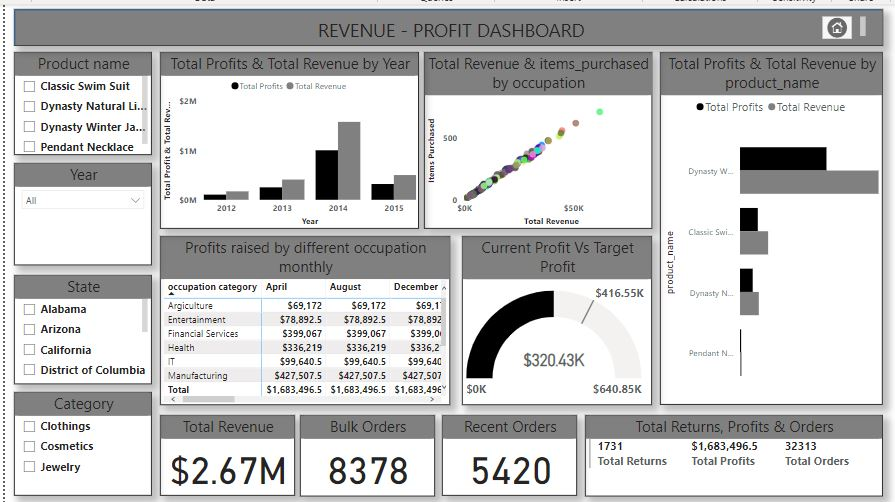

The page's visual inventory and layout, read from the dashboard file:
{"tool":"powerbi","page":{"name":"Dashboard","canvas":[1280,720],"ordinal":1},"visuals":[{"type":"card","title":"Total Revenue","fields":{"Values":["Measure.Total Revenue"]},"box":[222.8,590.7,194,116.4],"z":0},{"type":"multiRowCard","title":"Total Returns, Profits & Orders","fields":{"Values":["Measure.Total Returns","Measure.Total Profits","Measure.Total Orders"]},"box":[834.1,590.5,428,117],"z":2000},{"type":"pivotTable","title":"Profits raised by different occupation monthly","fields":{"Rows":["Customers.occupation category"],"Columns":["Calender.Month Name"],"Values":["Measure.Total Profits"]},"box":[222.8,333.4,416.8,242.9],"z":3000},{"type":"clusteredBarChart","title":"Total Profits & Total Revenue by product_name","fields":{"Category":["Products.product_name"],"Y":["Measure.Total Profits","Measure.Total Revenue"]},"box":[941.3,69,320.5,507.3],"z":4000},{"type":"gauge","title":"Current Profit Vs Target Profit","fields":{"Y":["Measure.Current Profit"],"TargetValue":["Measure.Target Profit"]},"box":[656.8,333.4,273.1,242.9],"z":5000},{"type":"scatterChart","title":"Total Revenue & items_purchased by occupation","fields":{"X":["Measure.Total Revenue"],"Y":["CountNonNull(Orders_New.items_purchased)"],"Series":["Customers.occupation"]},"box":[602.2,69,327.7,254.4],"z":6000},{"type":"clusteredColumnChart","title":"Total Profits & Total Revenue by Year","fields":{"Category":["Calendar_cc.Year"],"Y":["Measure.Total Profits","Measure.Total Revenue"]},"box":[222.8,69,372.2,254.4],"z":7000},{"type":"slicer","title":"Product name","fields":{"Values":["Products.product_name"]},"box":[12.9,69,198.3,148],"z":8000},{"type":"slicer","title":"Year","fields":{"Values":["Calendar_cc.Year"]},"box":[12.9,228.5,198.3,146.6],"z":9000},{"type":"slicer","title":"State","fields":{"Values":["Territory.state_name"]},"box":[12.9,389.5,198.3,156.6],"z":10000},{"type":"slicer","title":"Category","fields":{"Values":["Product_Category.category_name"]},"box":[12.9,557.6,198.3,149.5],"z":11000},{"type":"shape","box":[12.9,7.2,1248.9,53.2],"z":12000},{"type":"textbox","box":[48.9,12.9,1192.8,41.7],"z":13000},{"type":"card","title":"Bulk Orders","fields":{"Values":["Measure.Bulk Orders"]},"box":[423.9,590.5,194.1,117],"z":13001},{"type":"card","title":"Recent Orders","fields":{"Values":["Measure.Recent Orders"]},"box":[627.6,590.5,194.1,115.6],"z":13002},{"type":"image","box":[1169.8,12.9,51.7,41.7],"z":13003}]}

Visuals, with their boxes in screenshot pixels (x1, y1, x2, y2):
"Total Revenue" card: 165, 410, 298, 490
"Total Returns, Profits & Orders" multiRowCard: 584, 410, 878, 490
"Profits raised by different occupation monthly" pivotTable: 165, 233, 451, 400
"Total Profits & Total Revenue by product_name" clusteredBarChart: 658, 52, 878, 400
"Current Profit Vs Target Profit" gauge: 462, 233, 650, 400
"Total Revenue & items_purchased by occupation" scatterChart: 425, 52, 650, 227
"Total Profits & Total Revenue by Year" clusteredColumnChart: 165, 52, 420, 227
"Product name" slicer: 21, 52, 157, 154
"Year" slicer: 21, 161, 157, 262
"State" slicer: 21, 272, 157, 379
"Category" slicer: 21, 387, 157, 490
shape: 21, 10, 878, 46
textbox: 45, 14, 864, 42
"Bulk Orders" card: 303, 410, 436, 490
"Recent Orders" card: 442, 410, 576, 489
image: 815, 14, 850, 42
